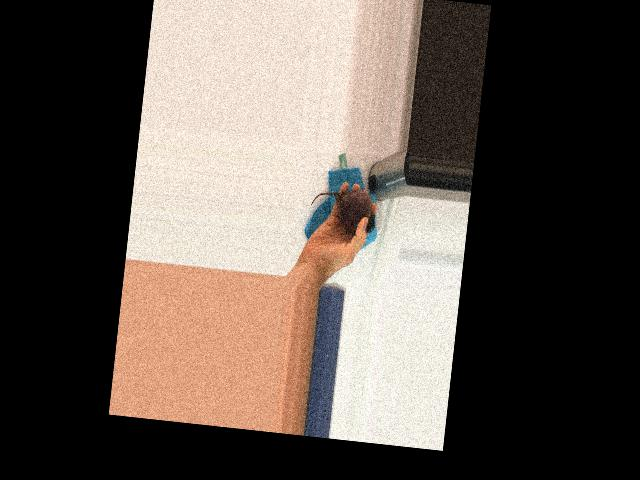beet: (308, 184, 378, 237)
